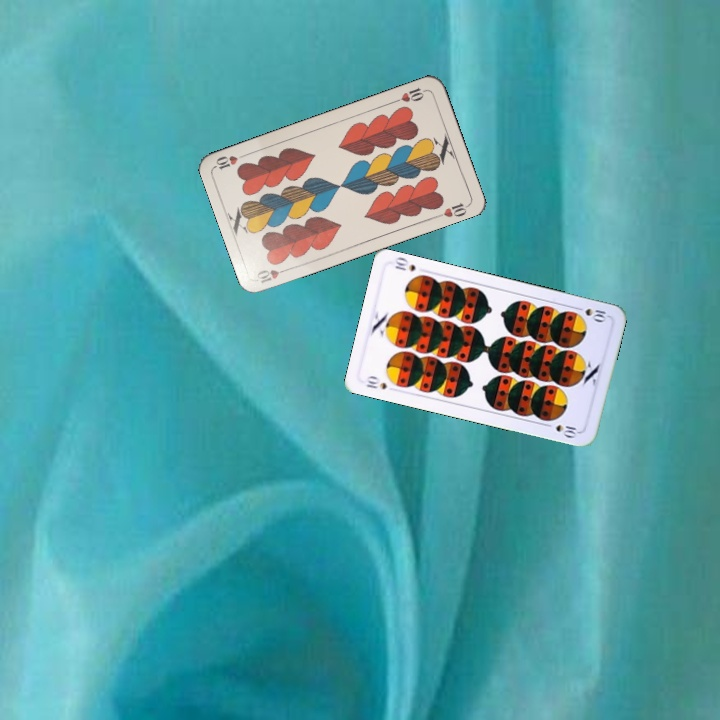H10: (253, 263, 293, 286), (390, 83, 429, 105)
S10: (571, 303, 611, 324), (362, 372, 390, 392)
